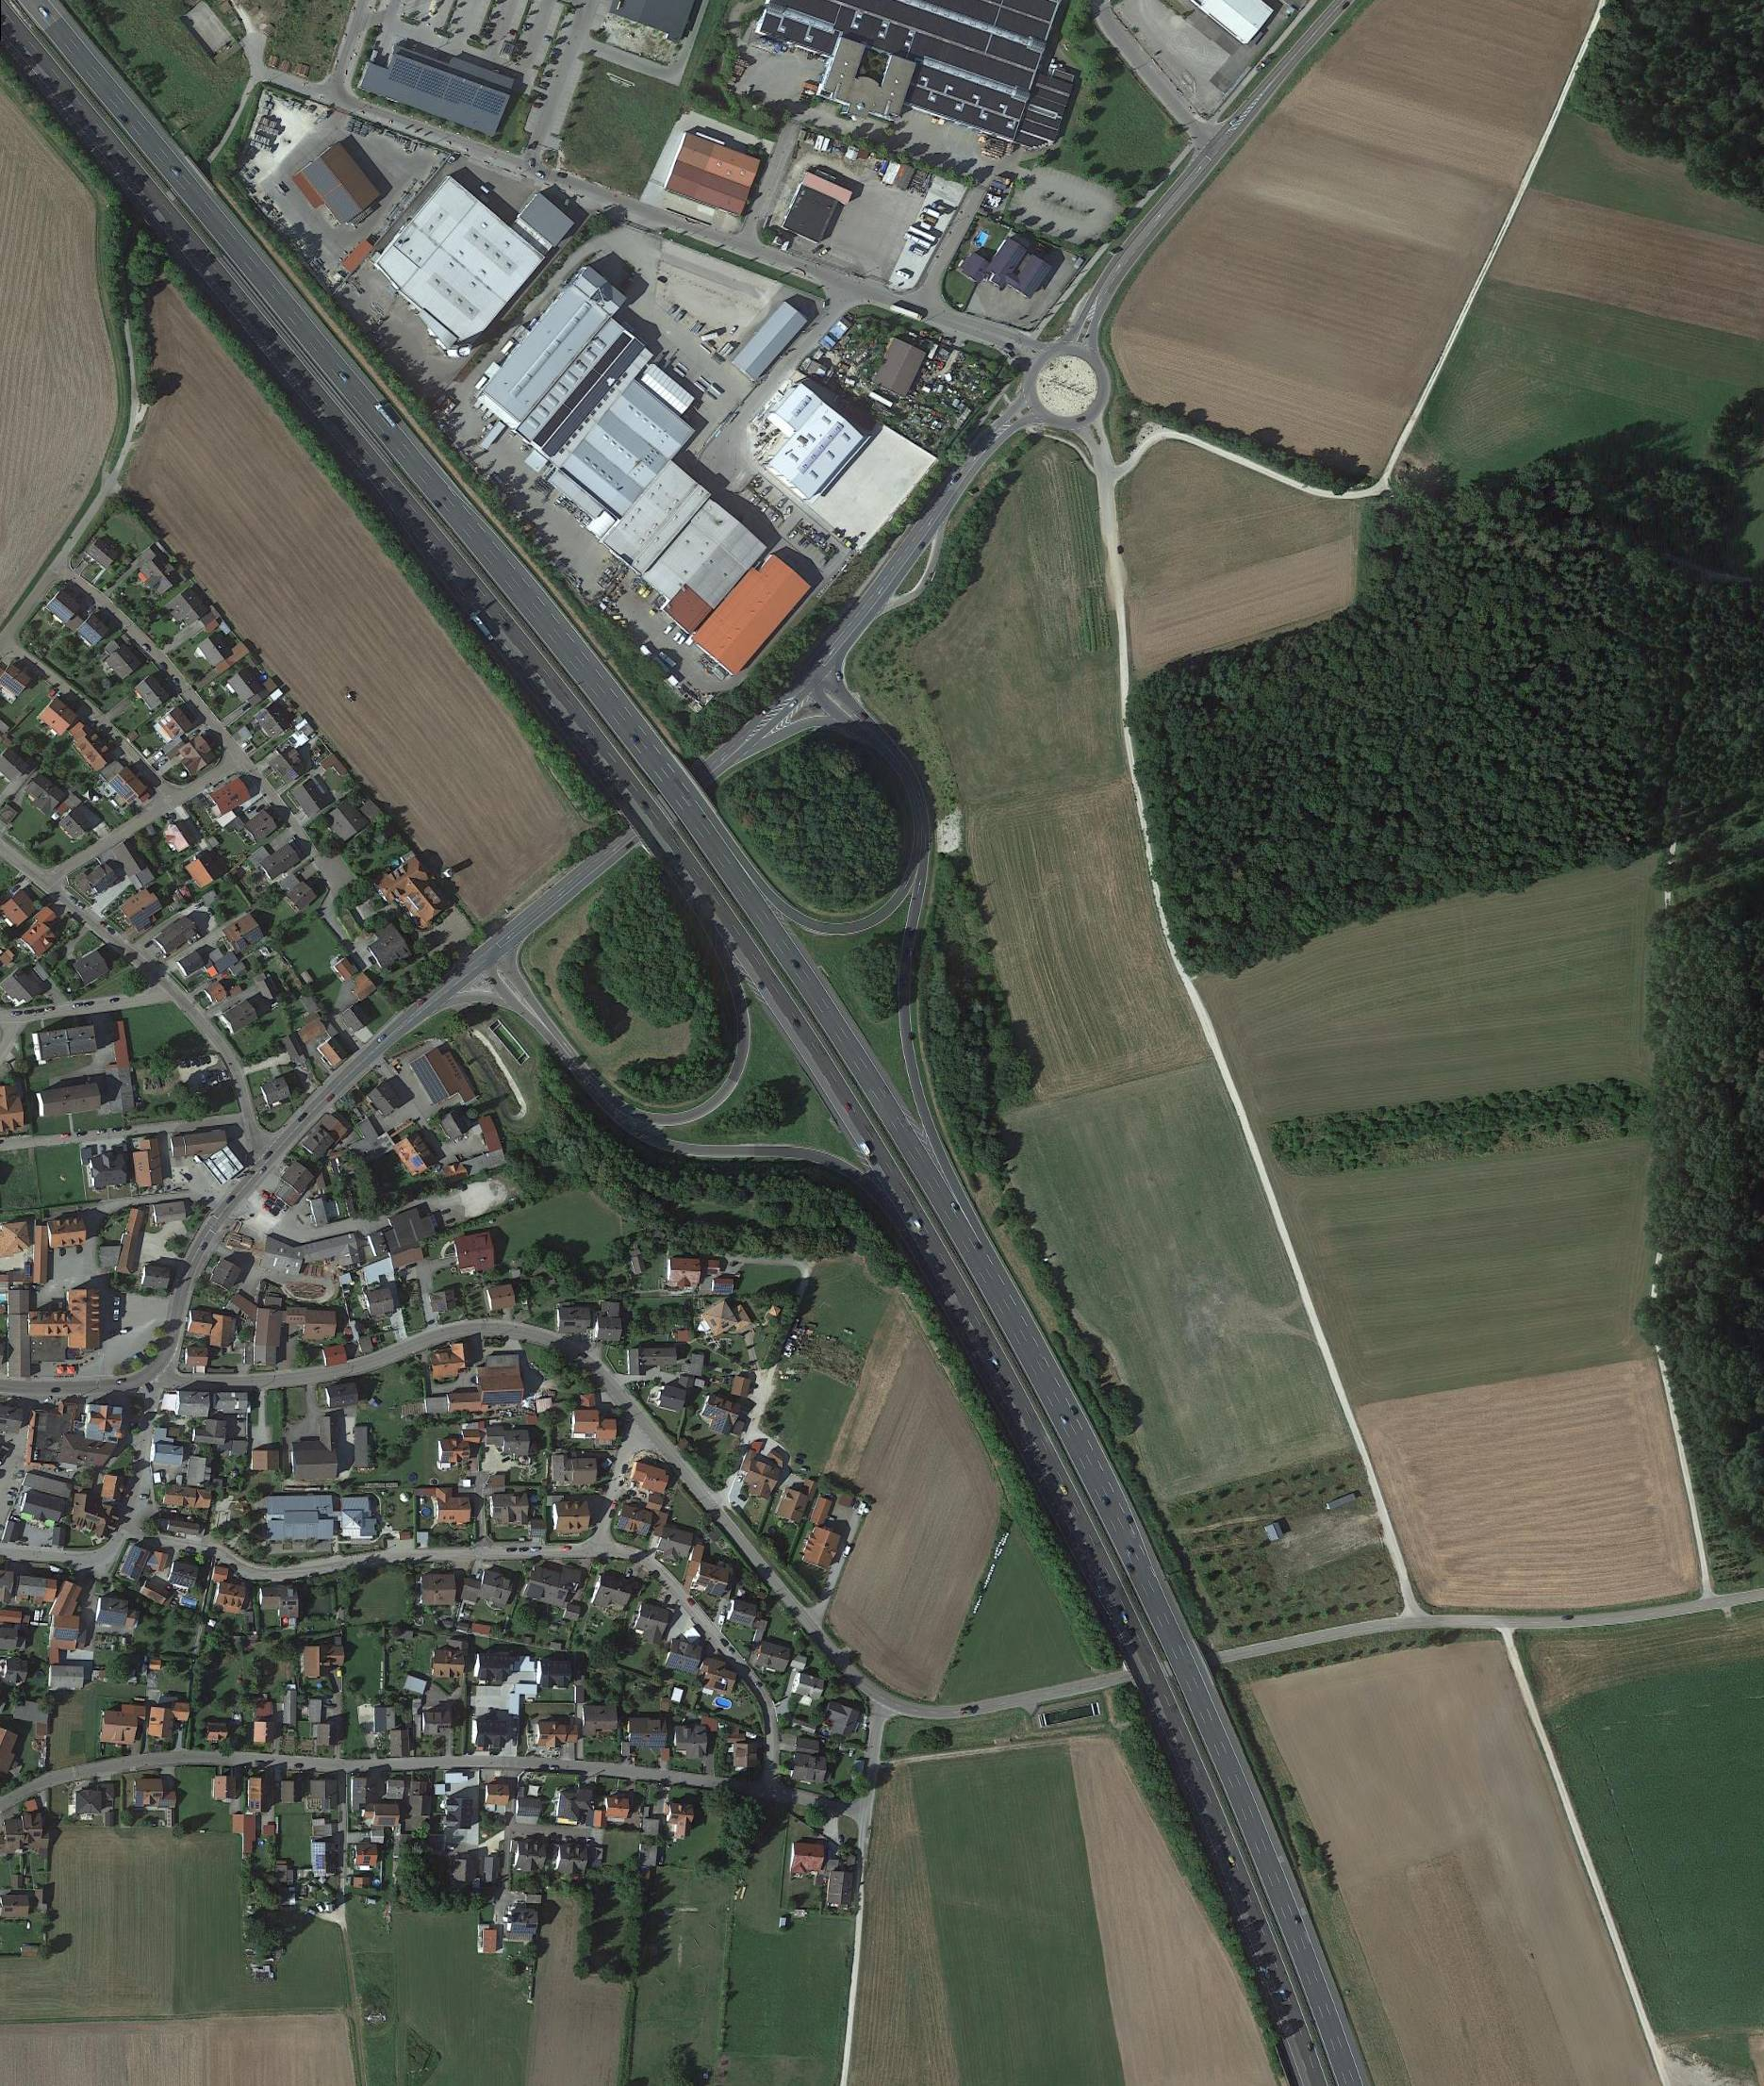roundabout: (1026, 343, 1110, 424)
